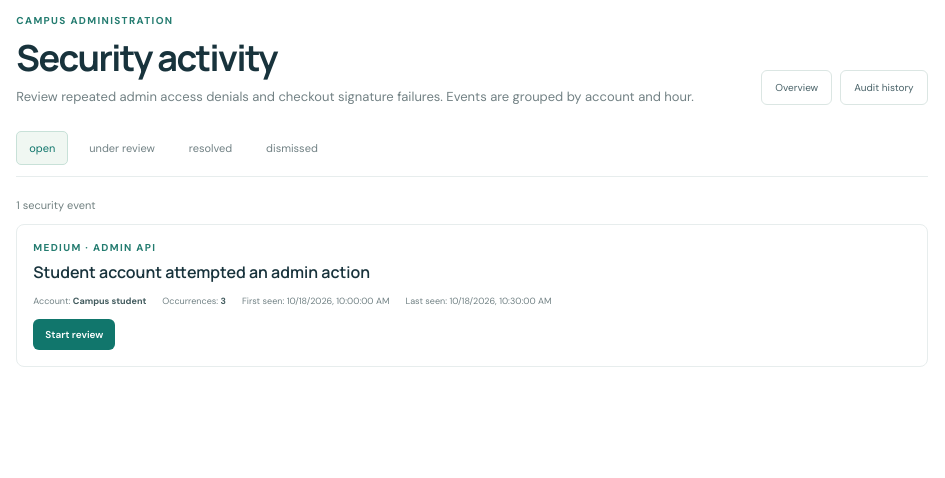
Test: AdminSecurityEventsPage › shows campus event details and can move an event into review
Check: the heading "Student account attempted an admin action" is shown, box [33,261,370,283]
Check: the text "Occurrences: 3" is shown, box [162,295,226,307]
Click the button "Start review".
click(74, 335)  # box [33,319,115,350]
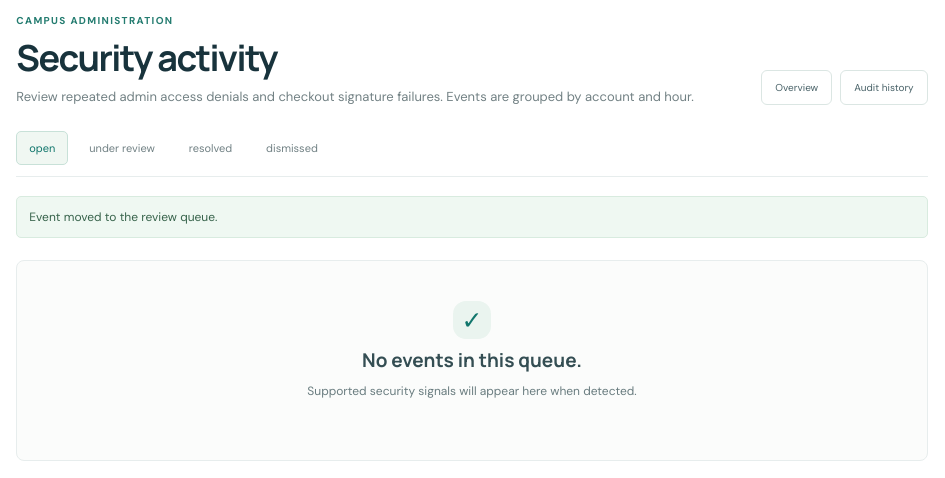
Check: the message reads "Event moved to the review queue.", box [29,209,217,225]
